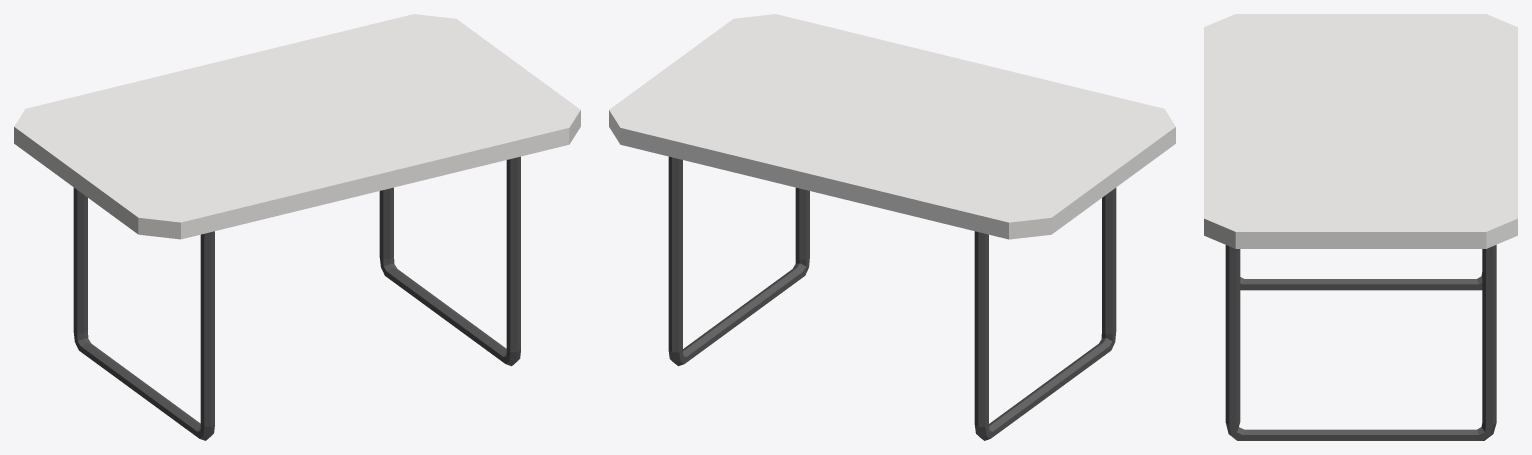
Rendered from Table_3_231109.glb.
3 views of the same model, side by side, from view 1: azimuth 30°, elevation 25°; view 2: azimuth 150°, elevation 25°; view 3: azimuth 270°, elevation 25° (orthographic).
Visible parts, largest first — view 1: Table_3; view 2: Table_3; view 3: Table_3.
Boxes of the visible parts, x1,y1,x2,y2 form: Table_3: [14, 14, 580, 440]; Table_3: [609, 14, 1175, 440]; Table_3: [1204, 14, 1517, 440].
Size of the model in its own units: 1.83 by 0.9511 by 1.11.
Materials: 1 (1 with a texture image).
